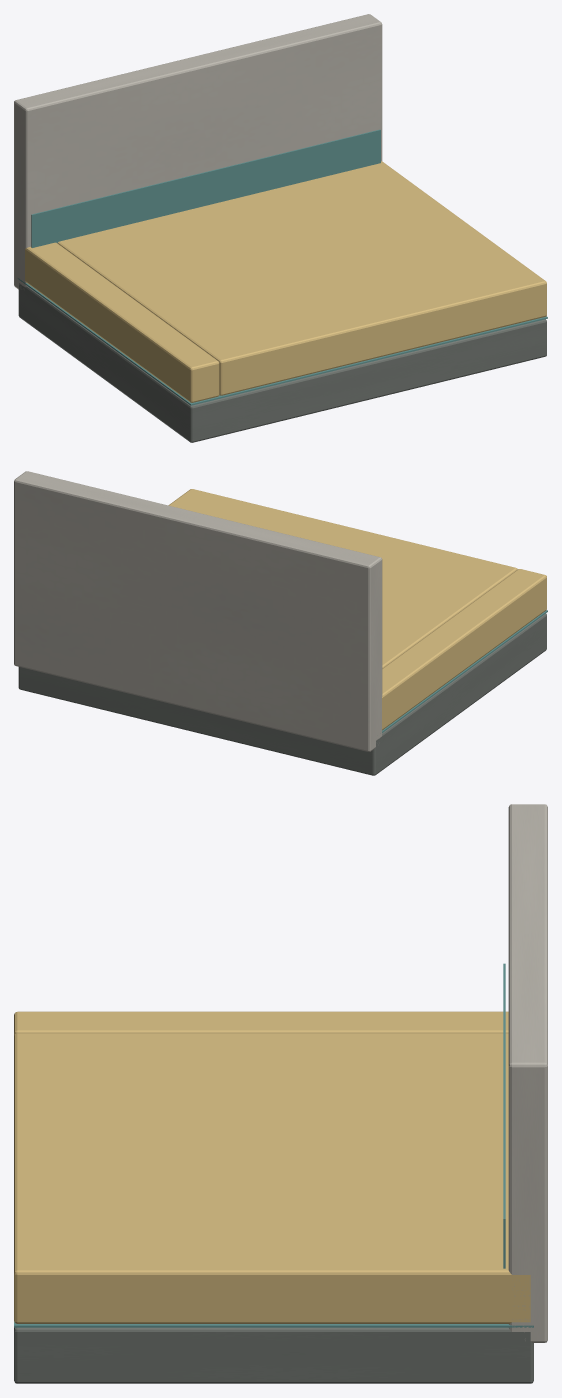
Rendered from modell.glb.
3 views of the same model, one above another, from view 1: azimuth 30°, elevation 25°; view 2: azimuth 150°, elevation 25°; view 3: azimuth 270°, elevation 25° (orthographic). The views are drawn at different scales.
Visible parts, largest first — view 1: g03-daemmung_daemmung, g03-wand_, g03-untergrund_tragwerk, g03-anschluss_luftdichtheit, g03-daemmanschluss_daemmung, g03-luftdichtheit_luftdichtheit; view 2: g03-wand_, g03-untergrund_tragwerk, g03-daemmung_daemmung, g03-daemmanschluss_daemmung, g03-luftdichtheit_luftdichtheit; view 3: g03-daemmung_daemmung, g03-untergrund_tragwerk, g03-wand_, g03-daemmanschluss_daemmung, g03-luftdichtheit_luftdichtheit, g03-anschluss_luftdichtheit.
Boxes of the visible parts, box(x1,y1,x2,y2) form: g03-daemmung_daemmung: box(57, 161, 546, 395); g03-wand_: box(14, 14, 382, 289); g03-untergrund_tragwerk: box(18, 283, 546, 442); g03-anschluss_luftdichtheit: box(31, 129, 380, 247); g03-daemmanschluss_daemmung: box(25, 242, 219, 402); g03-luftdichtheit_luftdichtheit: box(17, 278, 547, 405); g03-wand_: box(14, 471, 382, 751); g03-untergrund_tragwerk: box(18, 613, 546, 775); g03-daemmung_daemmung: box(168, 489, 517, 668); g03-daemmanschluss_daemmung: box(382, 569, 546, 730); g03-luftdichtheit_luftdichtheit: box(380, 610, 547, 733); g03-daemmung_daemmung: box(14, 1033, 530, 1323); g03-untergrund_tragwerk: box(14, 1327, 533, 1383); g03-wand_: box(508, 804, 547, 1342); g03-daemmanschluss_daemmung: box(14, 1011, 508, 1035); g03-luftdichtheit_luftdichtheit: box(14, 1321, 533, 1327); g03-anschluss_luftdichtheit: box(503, 963, 505, 1268).
Size of the model in its own units: 2.2 by 1.26 by 1.9.
4 materials, 2 textured.
